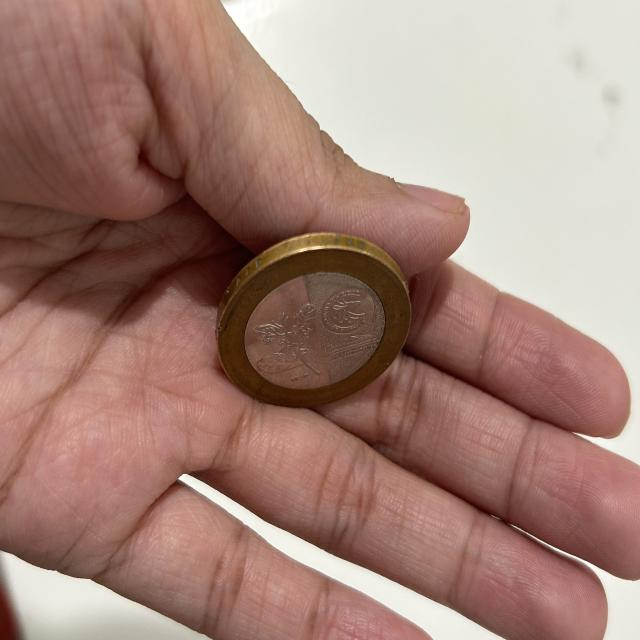20_New_Back: (249, 291, 328, 396)
